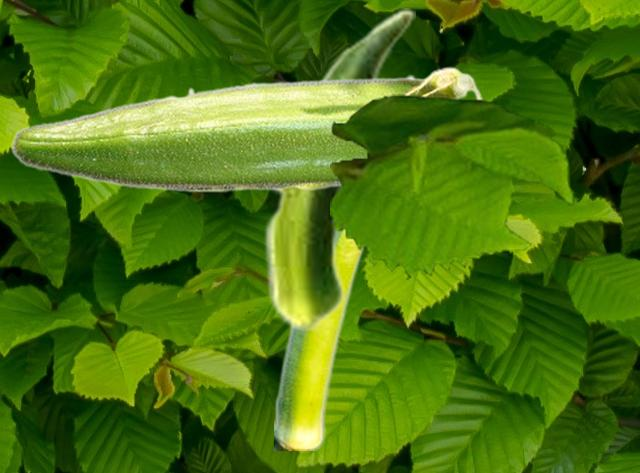okra: (10, 65, 484, 192), (274, 73, 414, 449), (263, 8, 414, 332)
